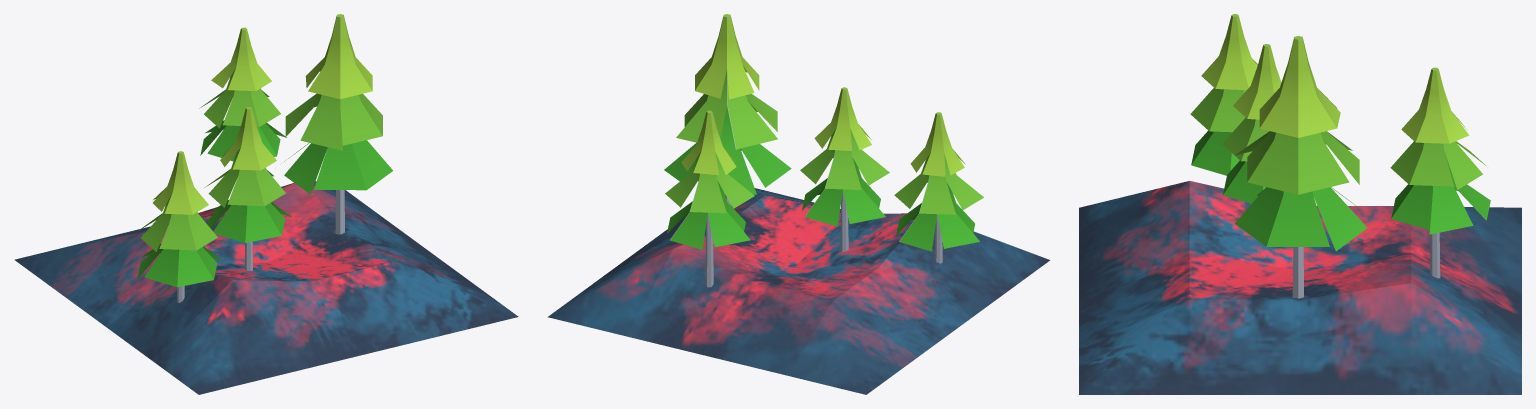
Rendered from tree02.FBX.
The picture shows the model from 3 angles, left to right: view 1: azimuth 30°, elevation 25°; view 2: azimuth 150°, elevation 25°; view 3: azimuth 270°, elevation 25°; orthographic projection. The views are drawn at different scales.
Visible parts, largest first — view 1: Tree02; view 2: Tree02; view 3: Tree02.
Part boxes in pixels (x1,y1,x2,y2): Tree02: [14, 14, 518, 394]; Tree02: [547, 14, 1049, 394]; Tree02: [1079, 14, 1521, 394].
Bounding box in the file's own units: 1 × 1 × 0.7628.
Materials: 1 (1 with a texture image).
